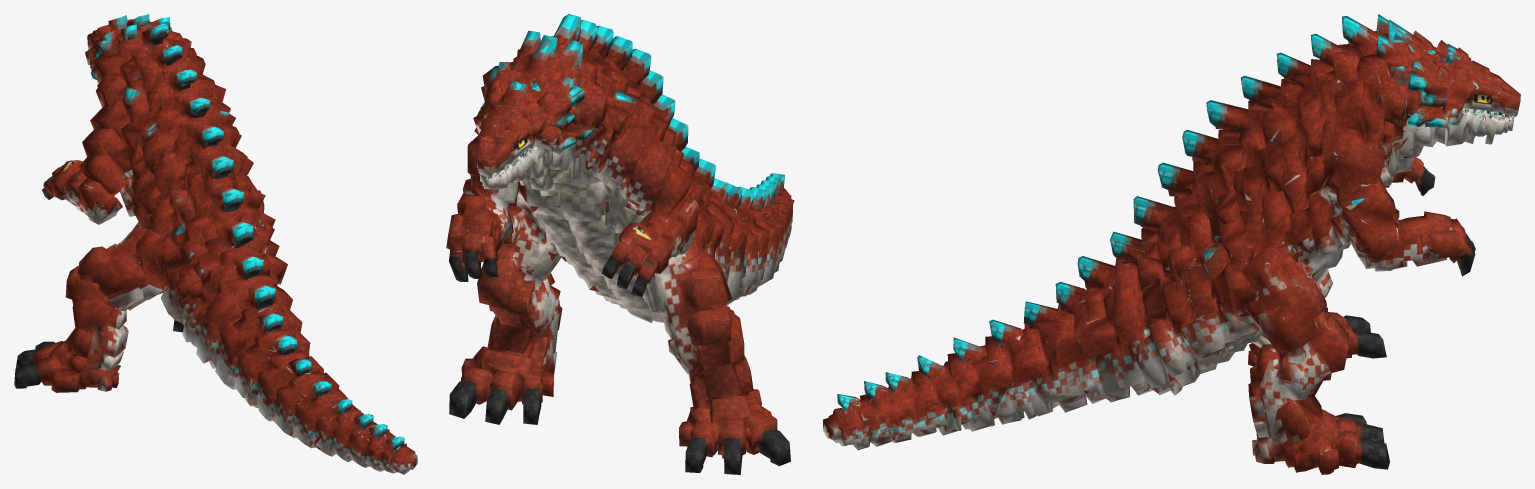
The model's file is philinosoma.obj.
The picture shows the model from 3 angles, left to right: view 1: azimuth 30°, elevation 25°; view 2: azimuth 150°, elevation 25°; view 3: azimuth 270°, elevation 25°; orthographic projection. The views are drawn at different scales.
Parts seen in each view (by area): view 1: philinosoma; view 2: philinosoma; view 3: philinosoma.
Boxes of the visible parts, x1,y1,x2,y2 form: philinosoma: (14, 14, 417, 474); philinosoma: (446, 14, 794, 474); philinosoma: (823, 14, 1520, 474).
Bounding box in the file's own units: 7.42 × 9 × 14.1.
